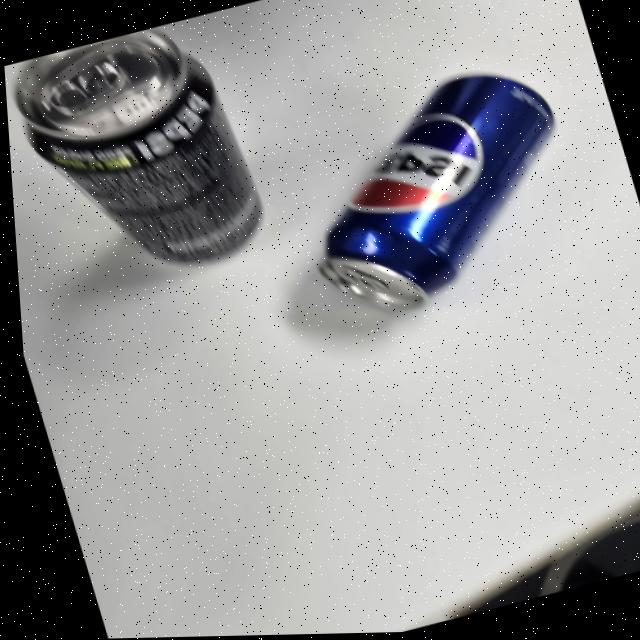can_pepsi: (325, 74, 562, 302)
can_pepsi_zero: (8, 27, 263, 265)
